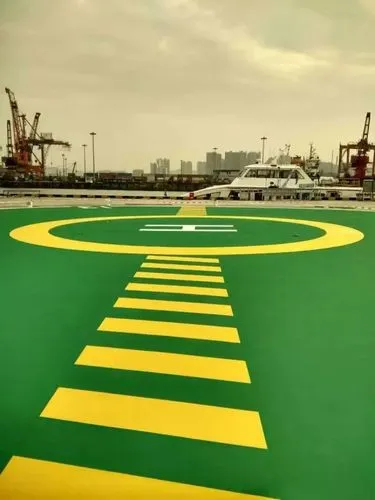Apron: (8, 215, 364, 256)
